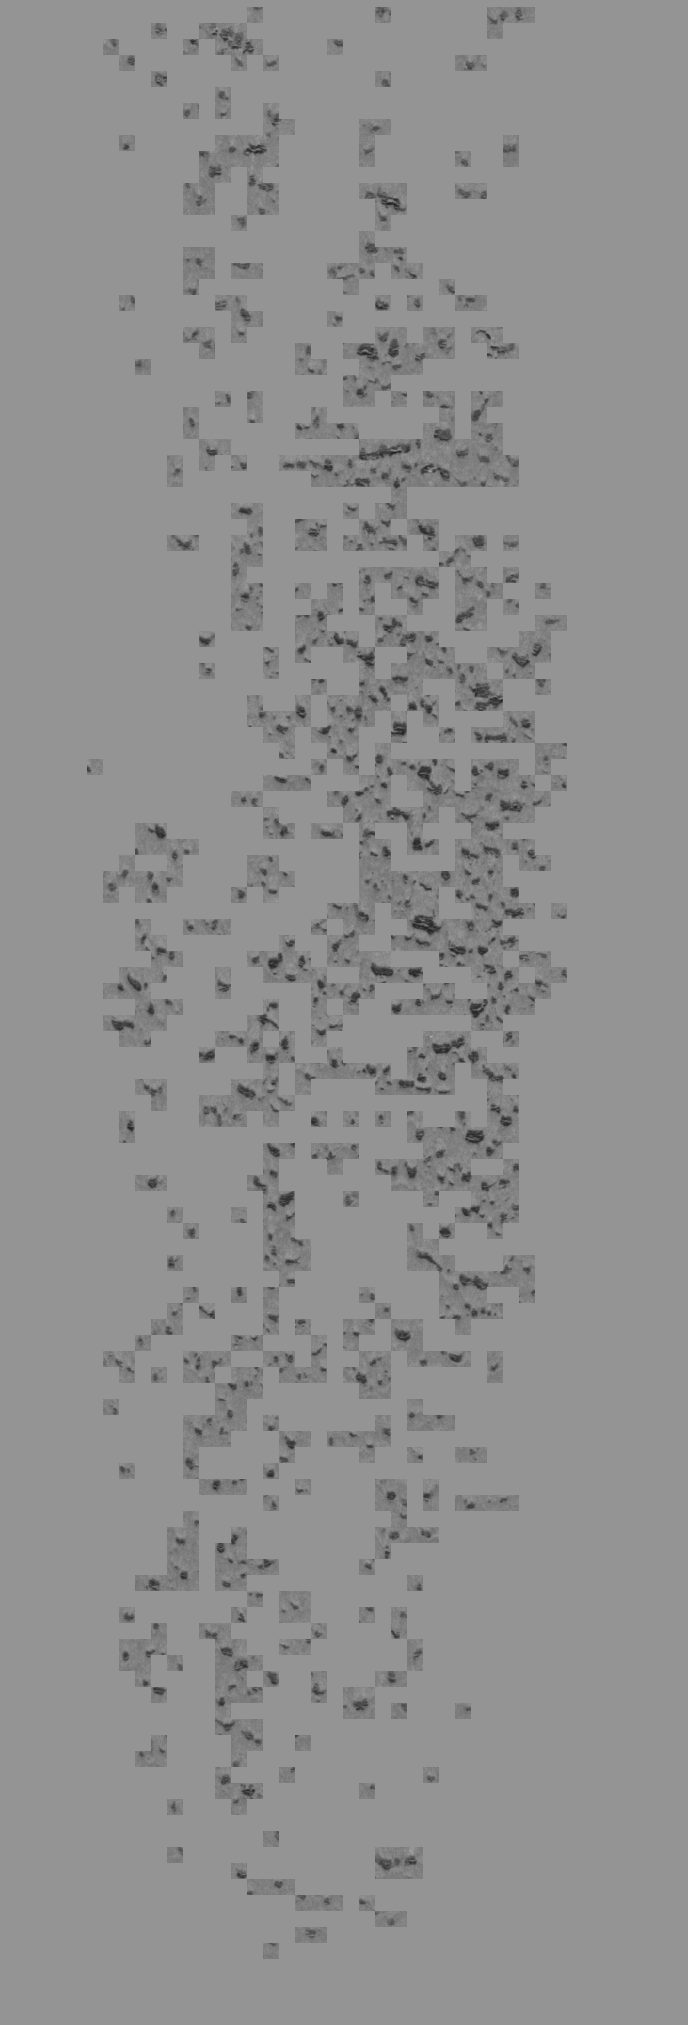oxl: (35, 10, 653, 2015)
